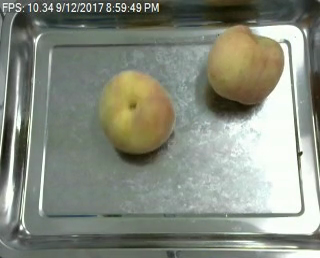Peach: (98, 70, 175, 154), (206, 24, 284, 105)
